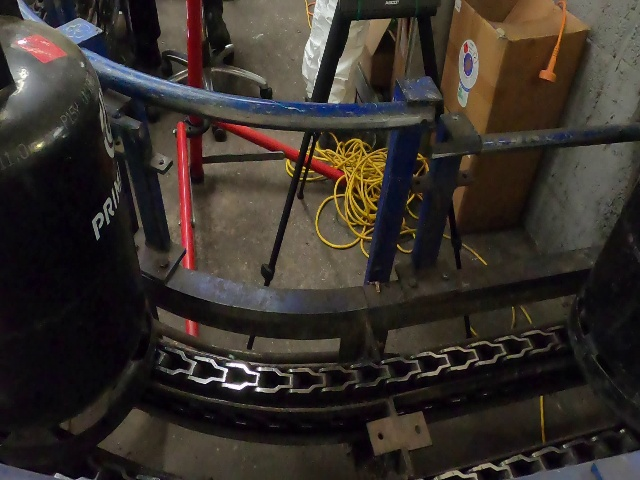gas_bottle: (9, 5, 639, 480)
